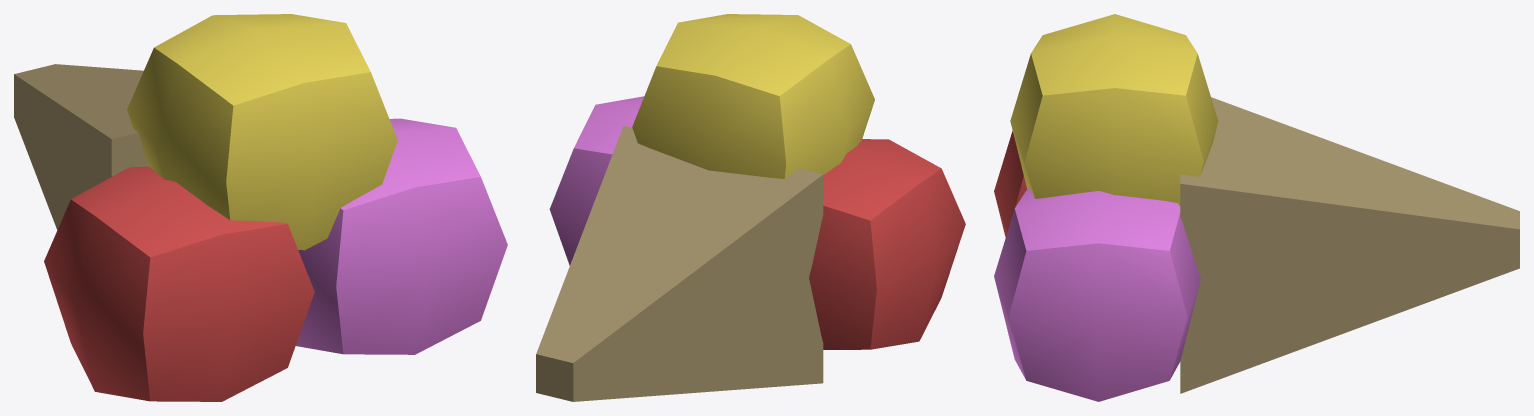
Rendered from ice.fbx.
3 renders of one model, left to right at view 1: azimuth 30°, elevation 25°; view 2: azimuth 150°, elevation 25°; view 3: azimuth 270°, elevation 25°, orthographic. The views are drawn at different scales.
Parts seen in each view (by area): view 1: Cube100; view 2: Cube100; view 3: Cube100.
Boxes of the visible parts, x1,y1,x2,y2 form: Cube100: [14, 14, 507, 401]; Cube100: [536, 14, 965, 401]; Cube100: [994, 14, 1519, 401].
Bounding box in the file's own units: 241 × 195 × 301.
